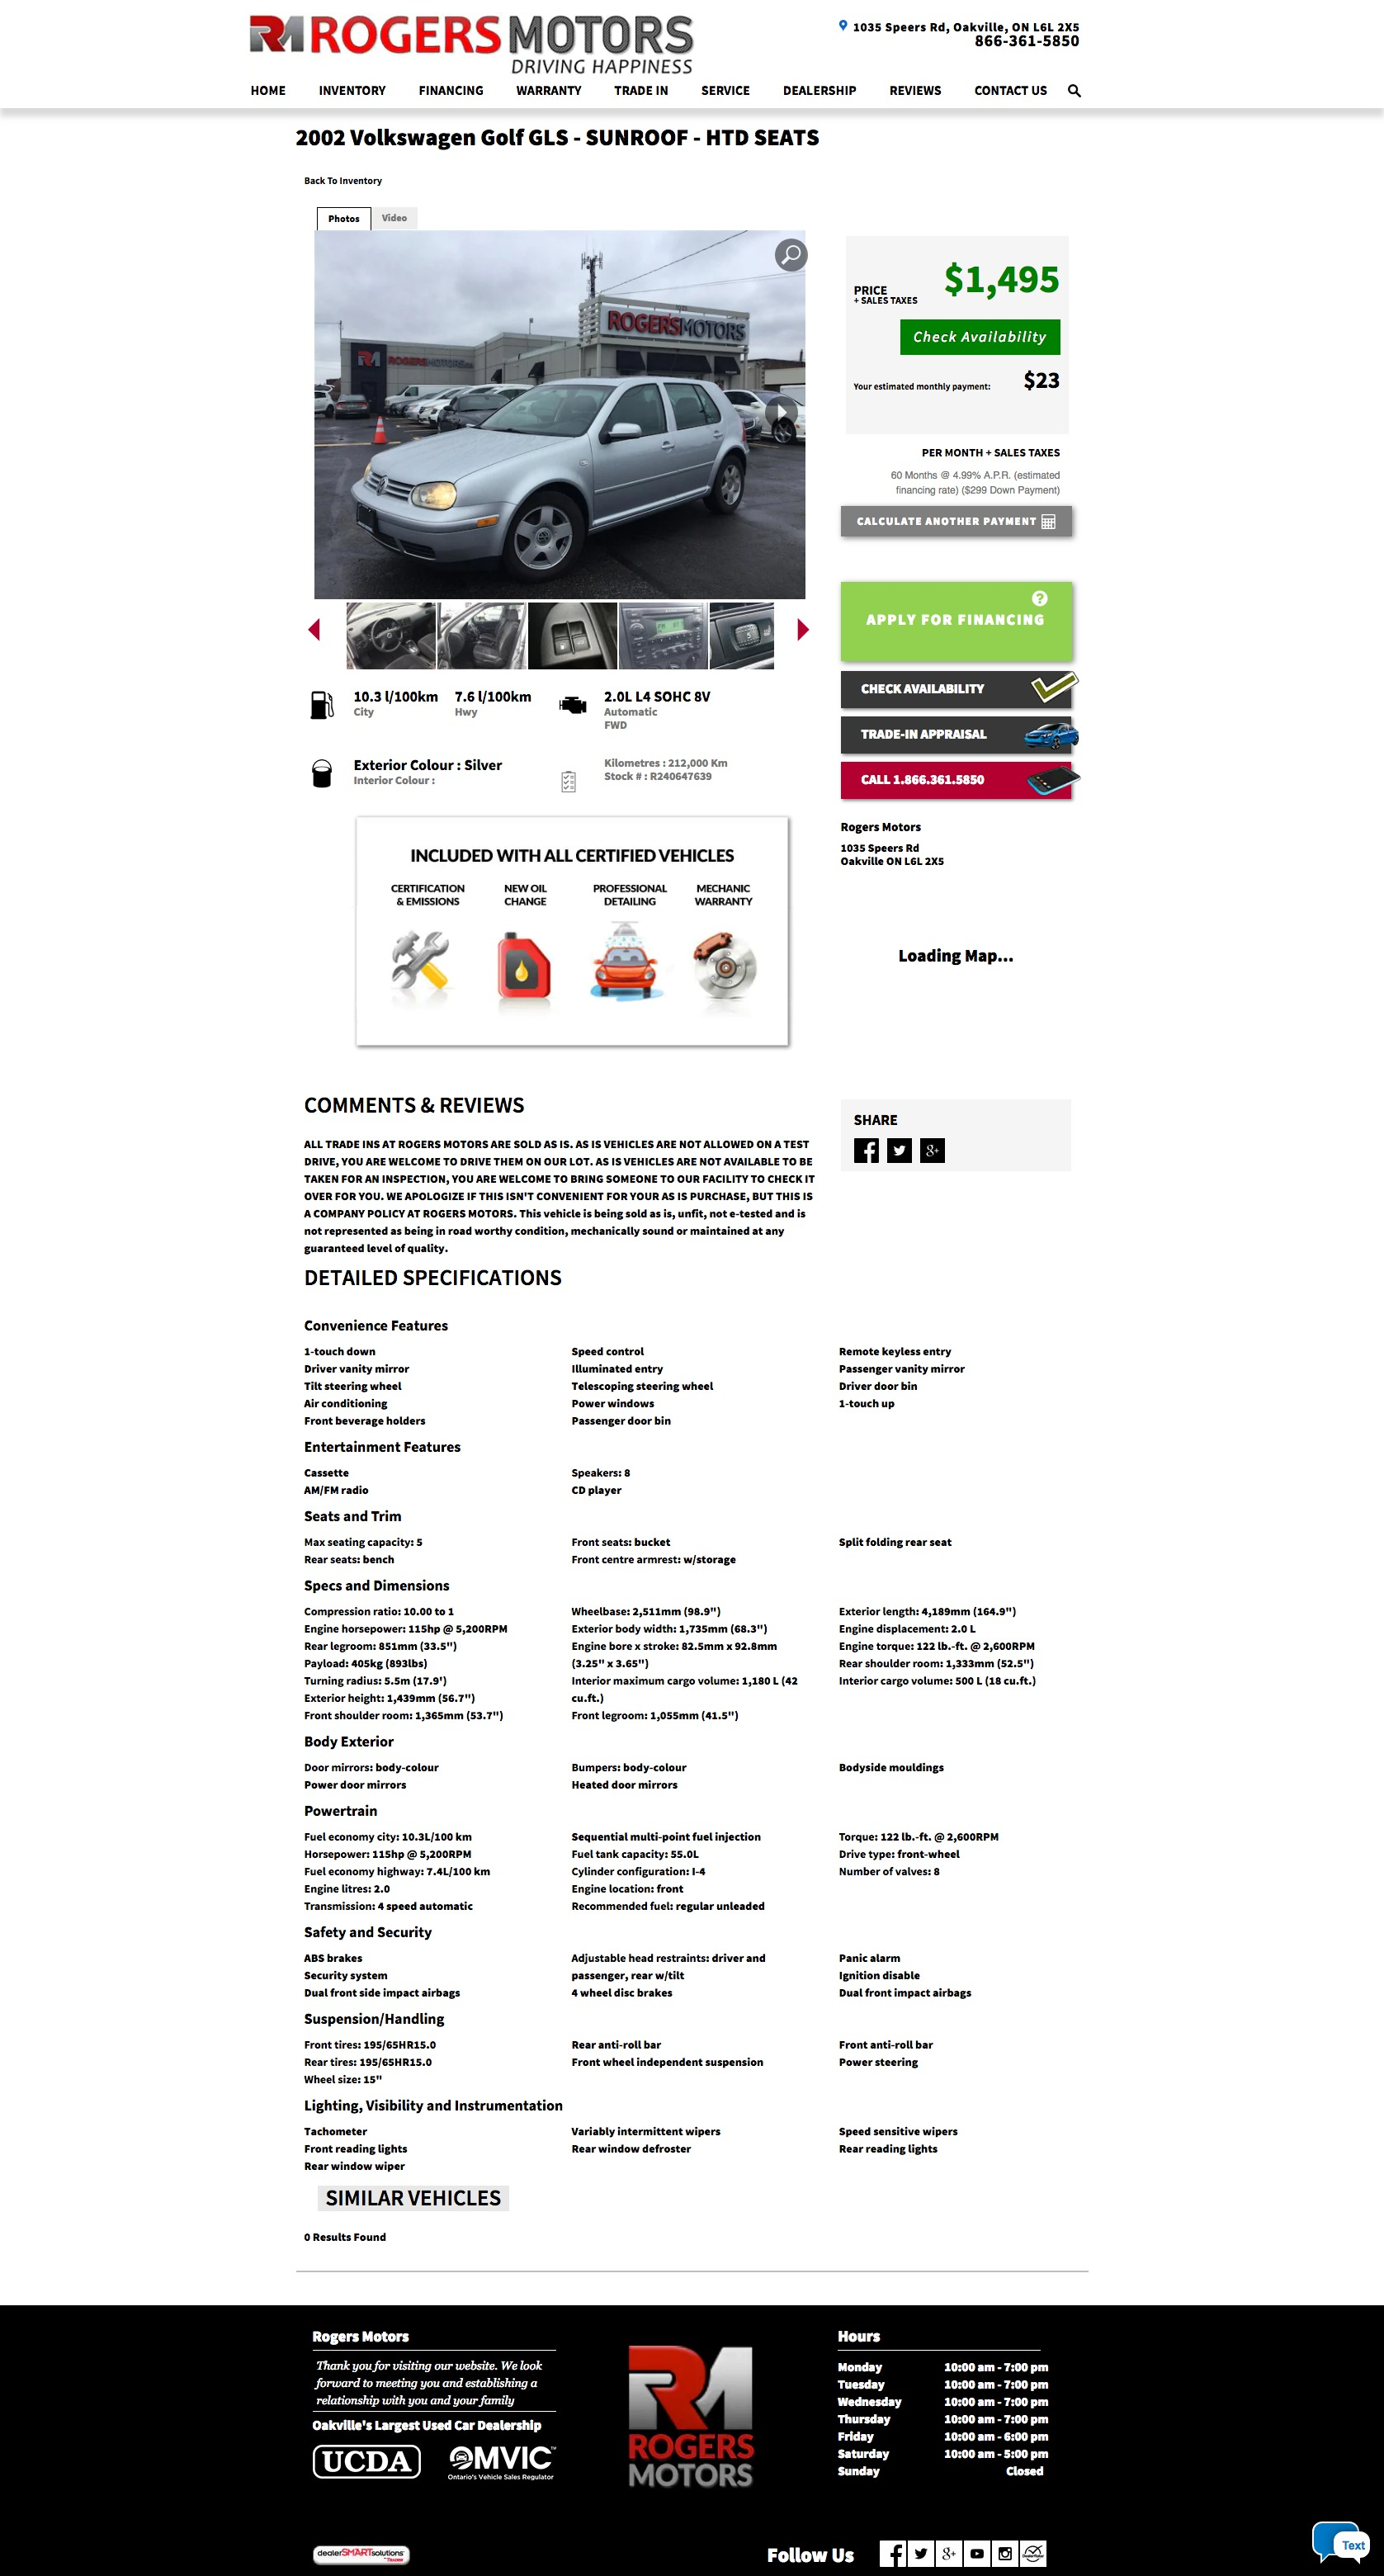car: (796, 617, 811, 644)
